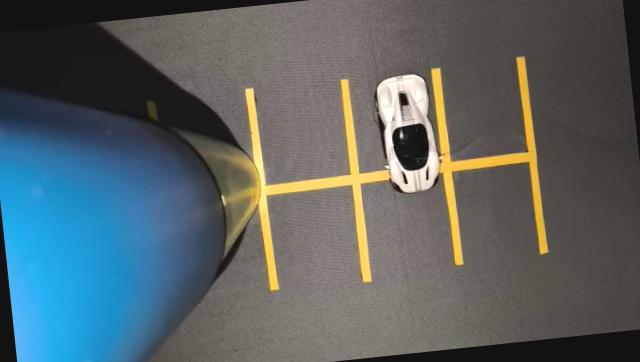toy_car: (342, 54, 460, 214)
